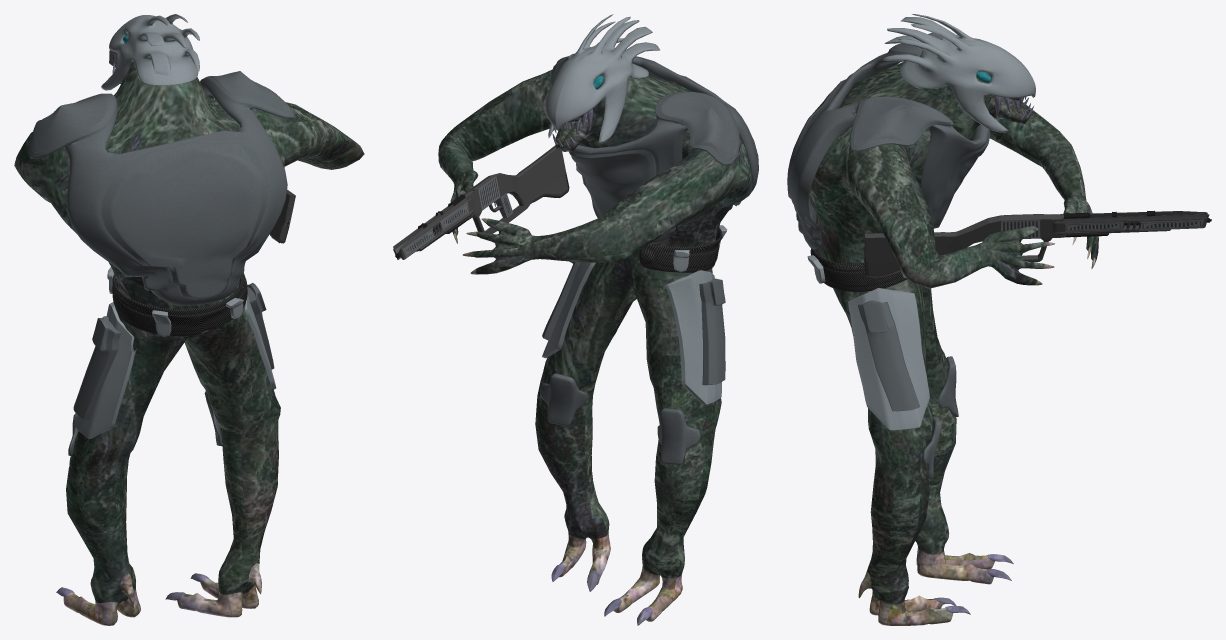
The model's file is AndarEscopeta.0019.obj.
3 renders of one model, left to right at view 1: azimuth 30°, elevation 25°; view 2: azimuth 150°, elevation 25°; view 3: azimuth 270°, elevation 25°, orthographic. The views are drawn at different scales.
Visible parts, largest first — view 1: polySurface204, escopeta:Cylinder001 polySurface204; view 2: polySurface204, escopeta:Cylinder001 polySurface204; view 3: polySurface204, escopeta:Cylinder001 polySurface204.
Part boxes in pixels (x1,y1,x2,y2): polySurface204: [14, 14, 364, 625]; escopeta:Cylinder001 polySurface204: [109, 50, 295, 243]; polySurface204: [438, 14, 758, 625]; escopeta:Cylinder001 polySurface204: [393, 145, 569, 259]; polySurface204: [787, 14, 1098, 625]; escopeta:Cylinder001 polySurface204: [864, 210, 1211, 277].
Bounding box in the file's own units: 1.41 × 2.54 × 1.67.
10 materials, 8 textured.
